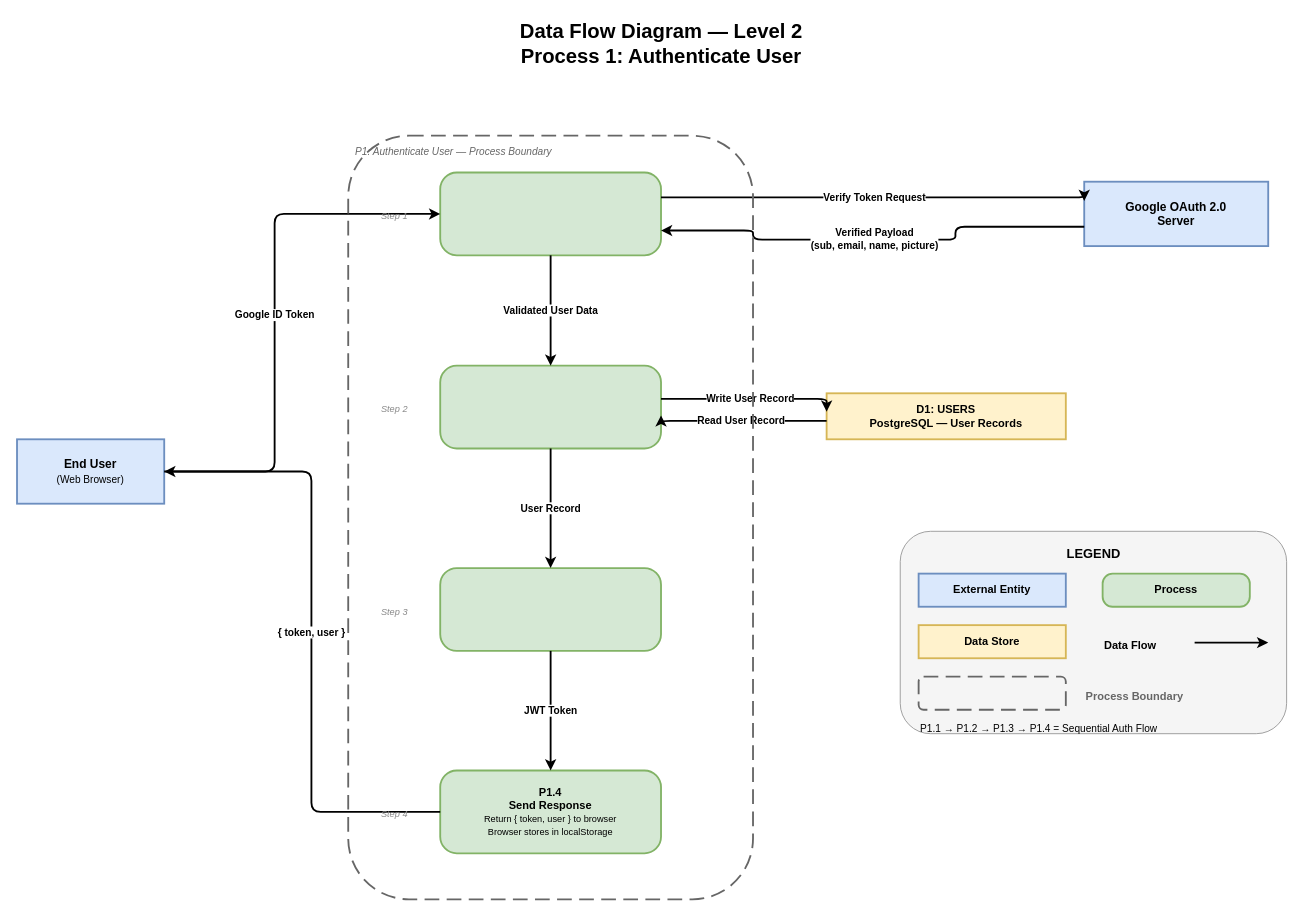
Some shapes in this 1303 by 915 pixel diagram are drawn without their labels. Each missing label, with the centre of its shape:
"P1.1 Verify Google Token Call googleClient.verifyIdToken() Extract Payload" goes at point (550, 213).
"P1.2 Upsert User INSERT or UPDATE via ON CONFLICT Sync email, name, picture" goes at point (550, 406).
"P1.3 Issue JWT Sign JWT with userId, email, name Expiry: 7 days" goes at point (550, 609).
